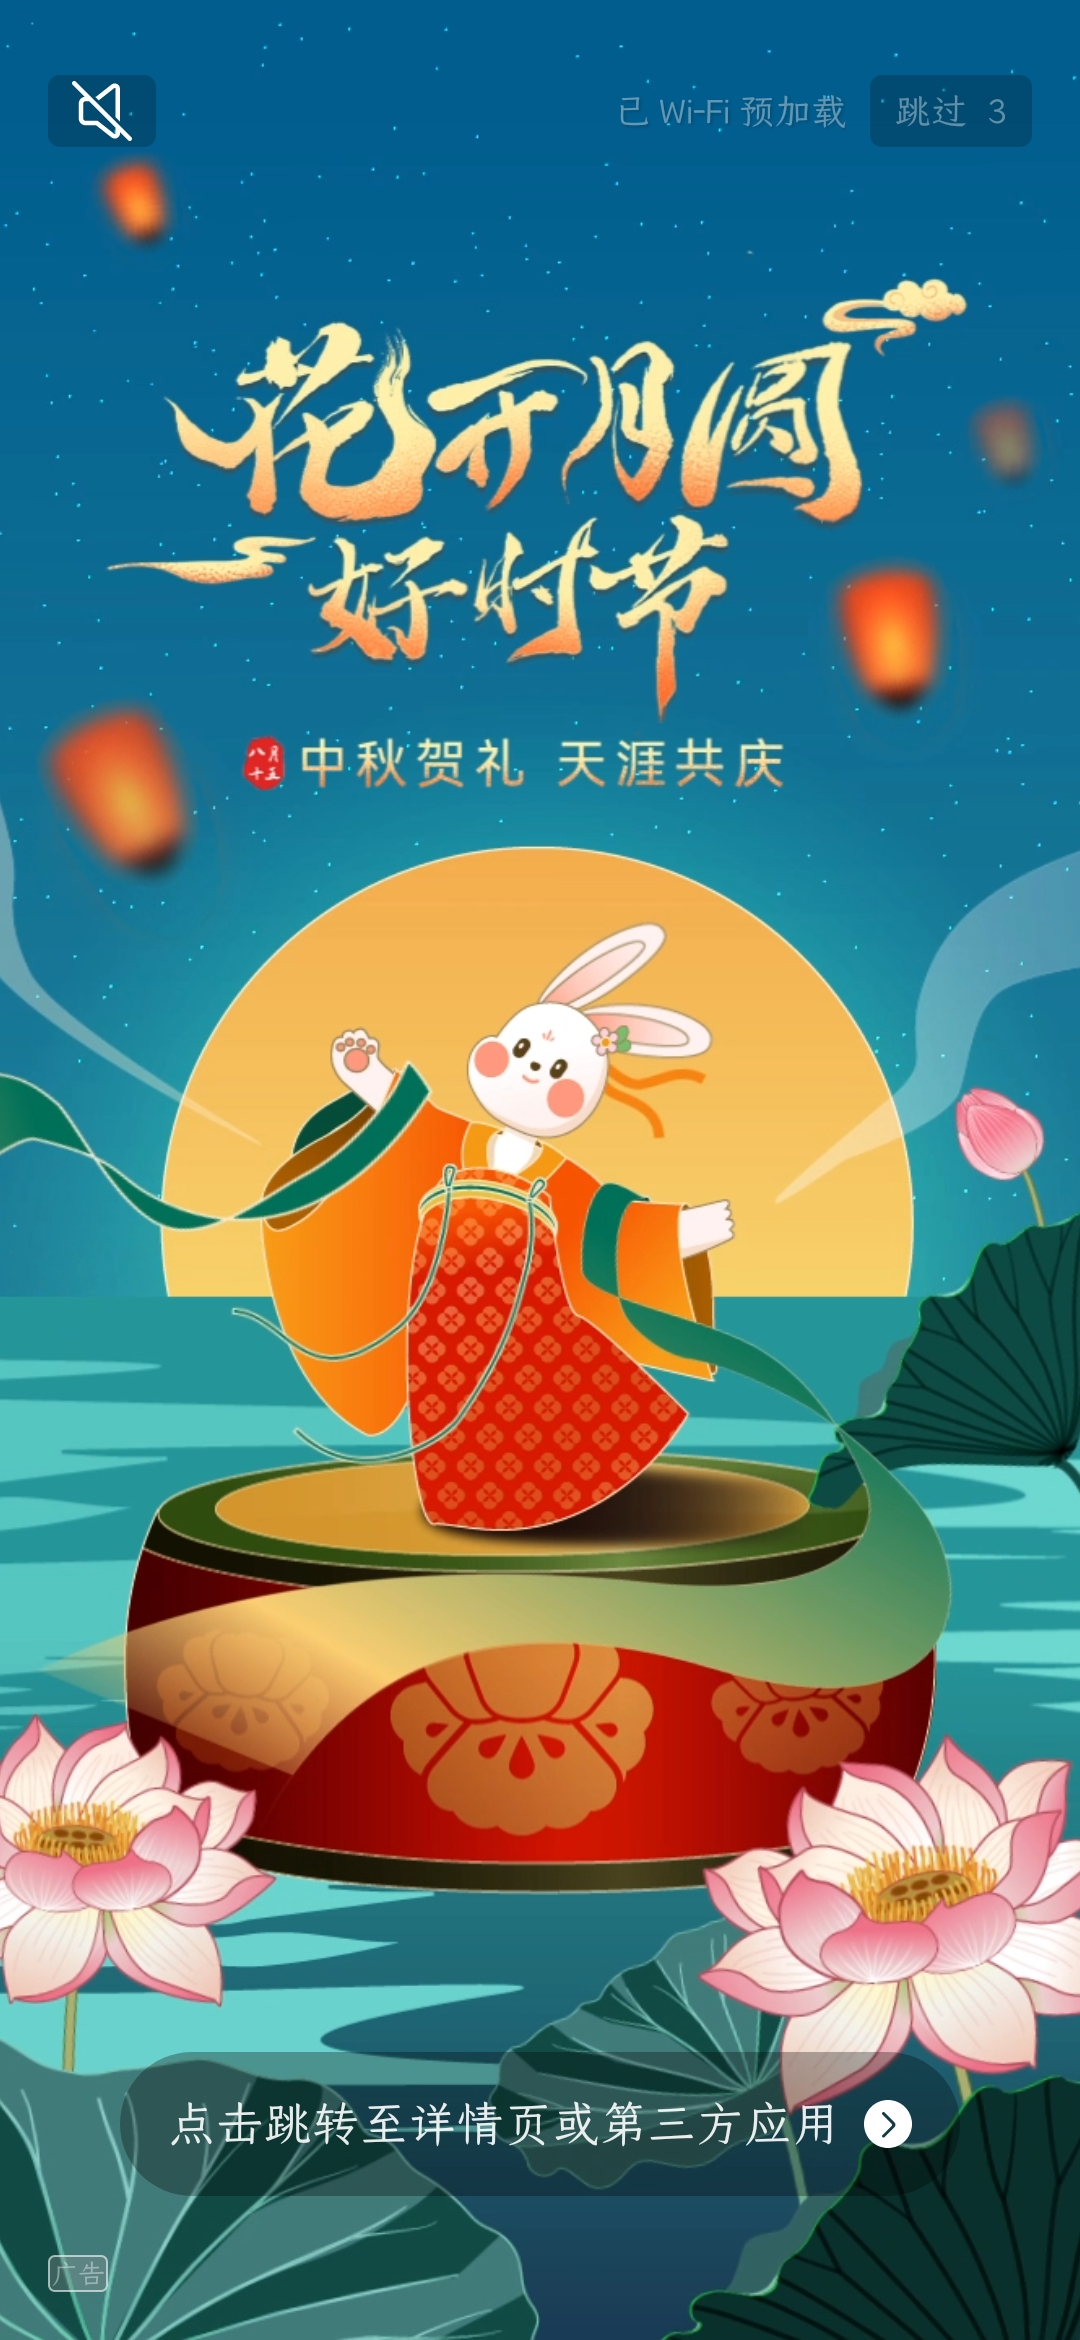skip: (882, 79, 1031, 142)
